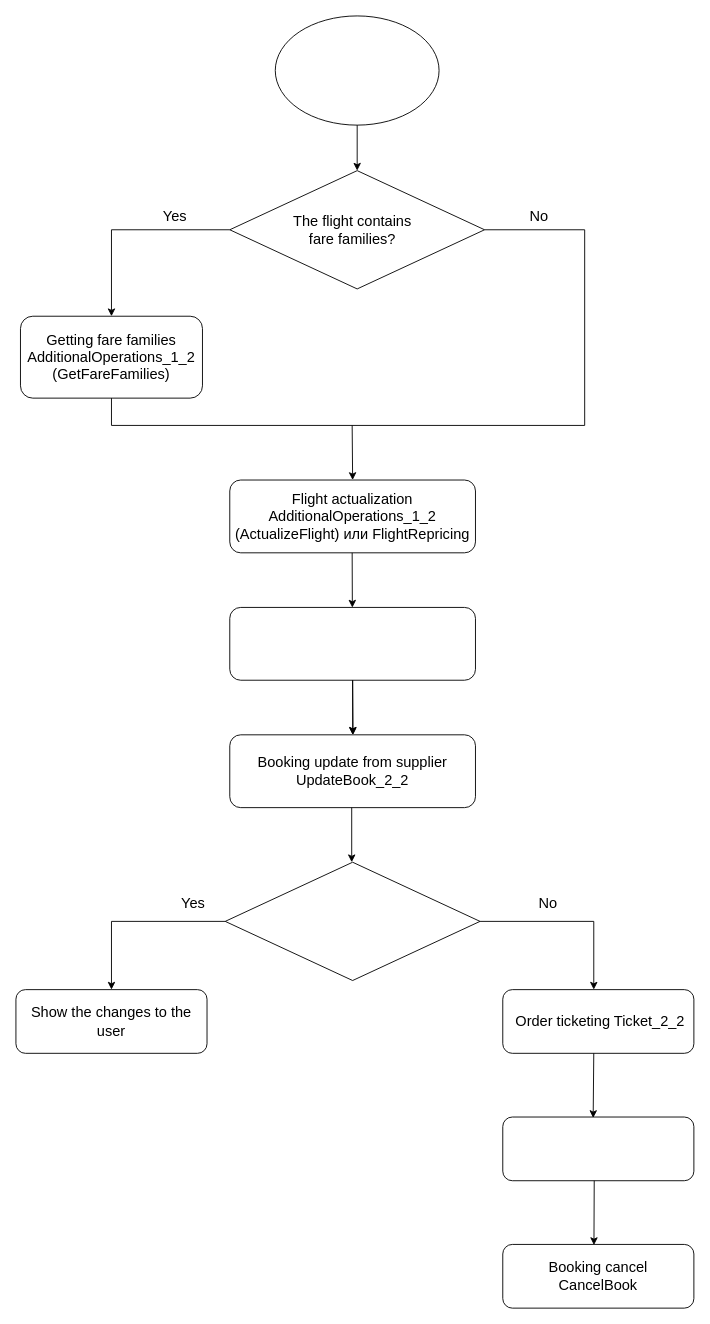
This 710x1324 diagram has some shape labels left out. Each missing label, with the centre of its shape:
"Are there any changes after synchronisation?" belongs at point (352, 921).
"Flight booking BookFlight_2_2" belongs at point (352, 643).
"Flight Search Search_1_2" belongs at point (356, 70).
"Voiding VoidTicket" belongs at point (598, 1148).
